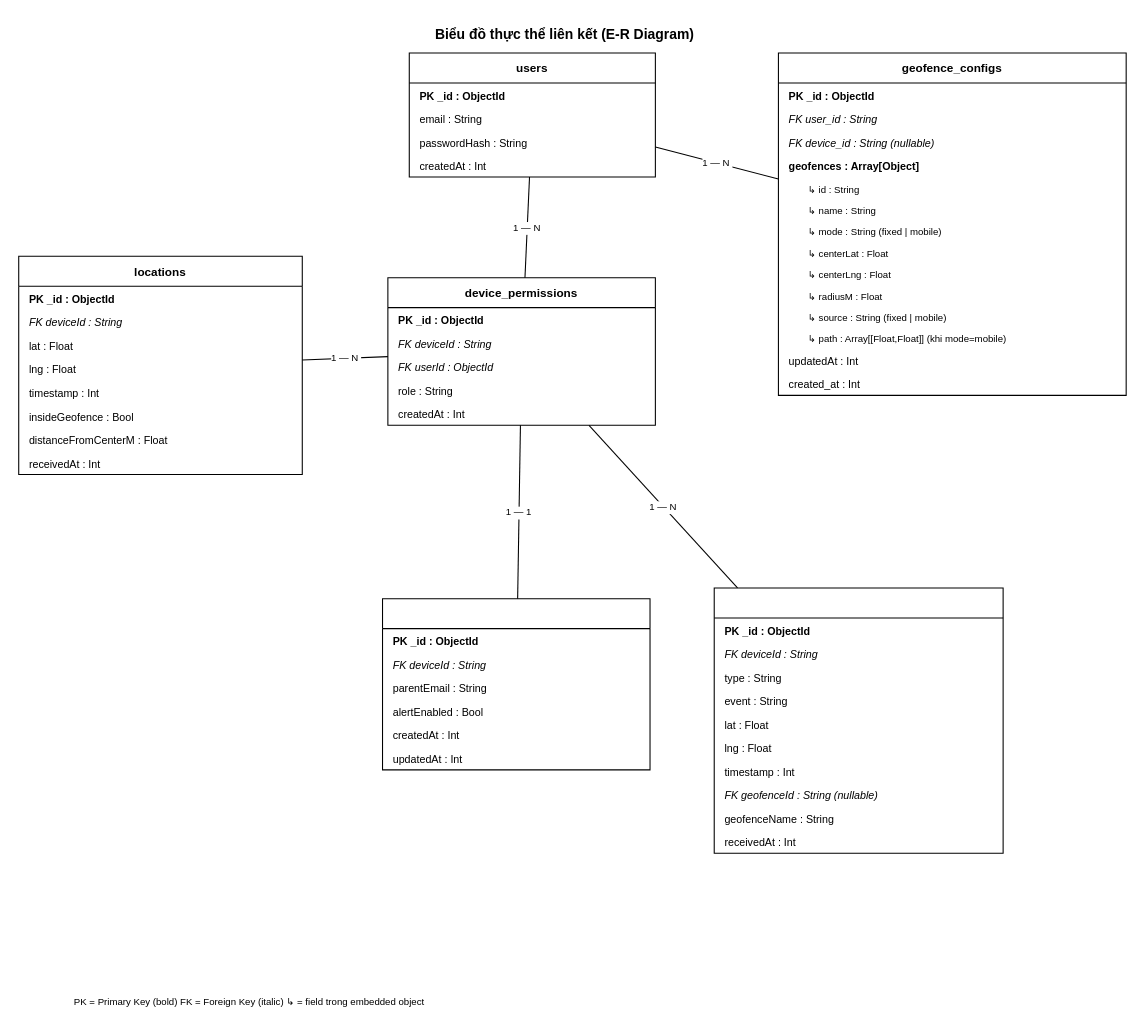
Some shapes in this 1145 by 1026 pixel diagram are drawn without their labels. Each missing label, with the box of its shape:
alerts: (713, 587, 1003, 853)
device_configs: (381, 598, 650, 770)
